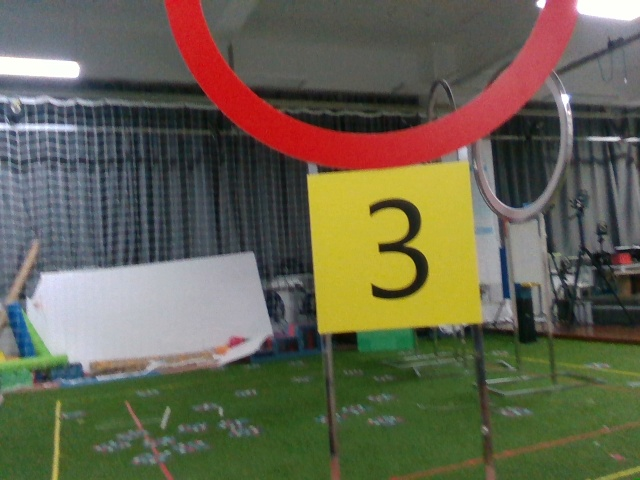target: (318, 174, 476, 321)
